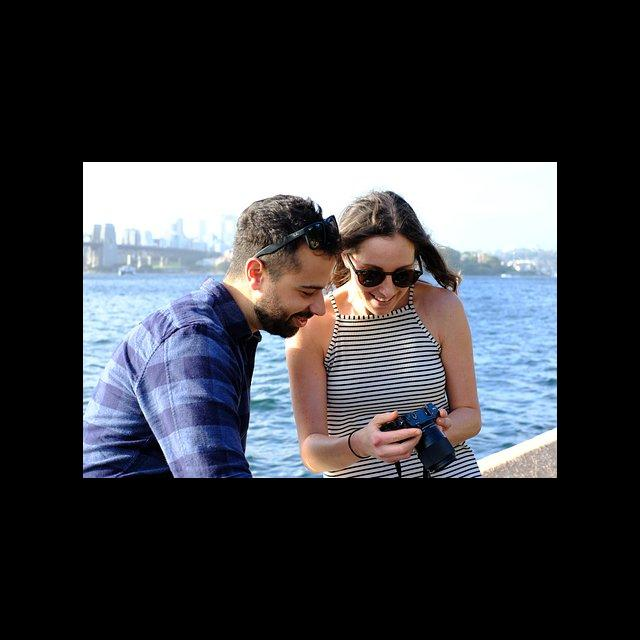female: (340, 173, 452, 338)
male: (220, 188, 341, 334)
